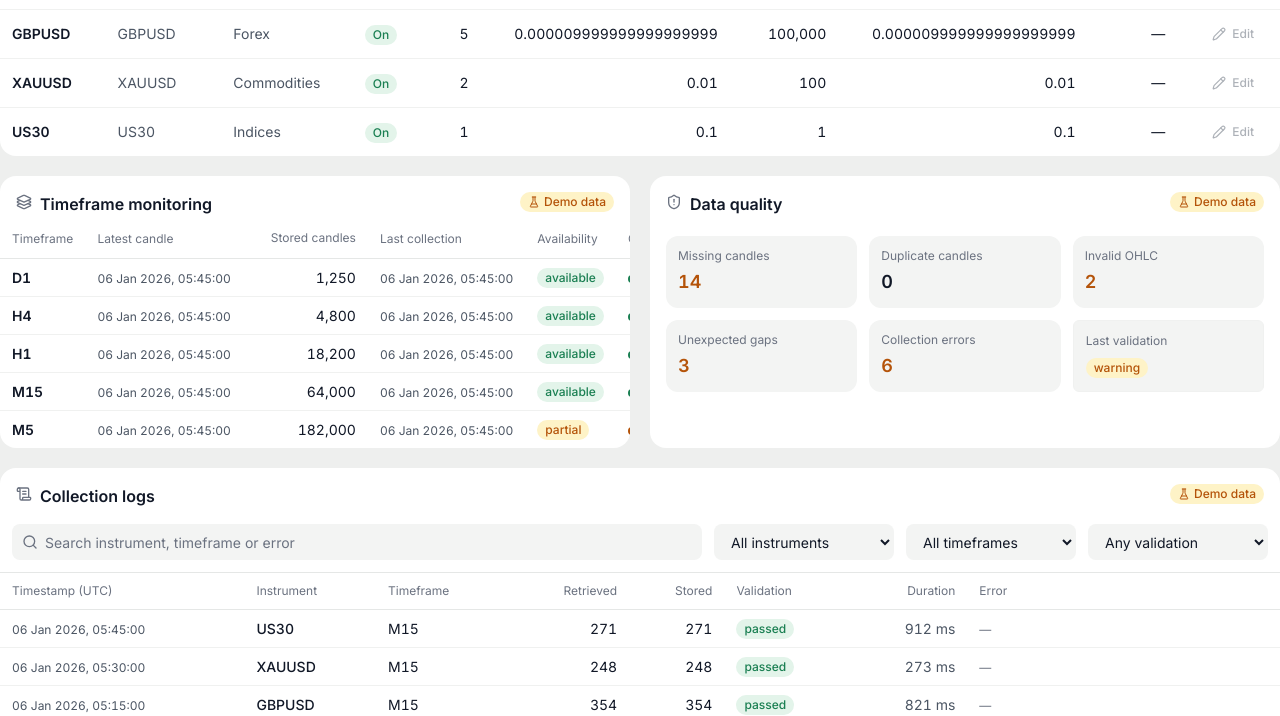
Scenario: Data Centre drill-down › filters the logs from a quality tile and opens a log in the drawer
(page scrolled)
What coordinates should you click on to do the following:
click the button "Collection errors 6"
I would click on:
 (965, 356)
Its box is [869,320,1061,392].
(page scrolled)
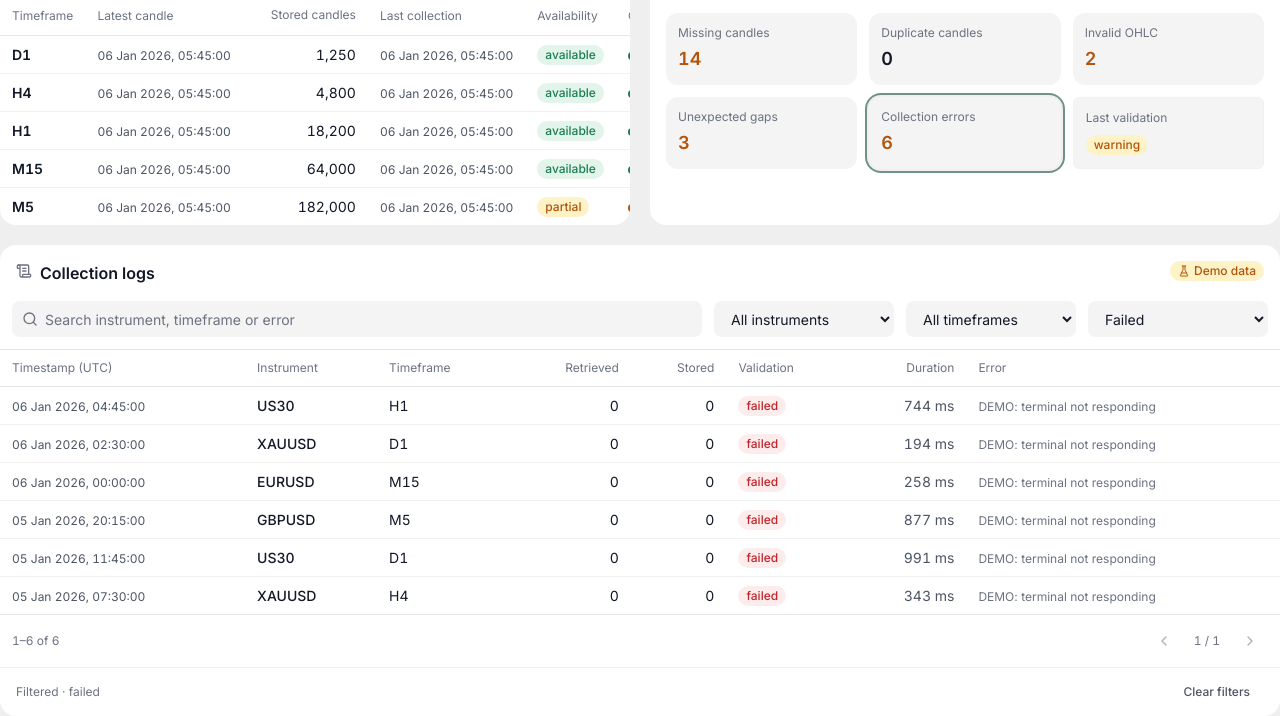
Expected: the text "failed" in the row of "06 Jan 2026, 04:45:00" is shown, [746,398,778,413]
Expected: the text "Filtered · failed" is shown, [16,684,100,700]
What coordinates should you click on to do the following:
click the row named "open log for"
I would click on:
 (640, 406)
Its box is [0,387,1279,424].
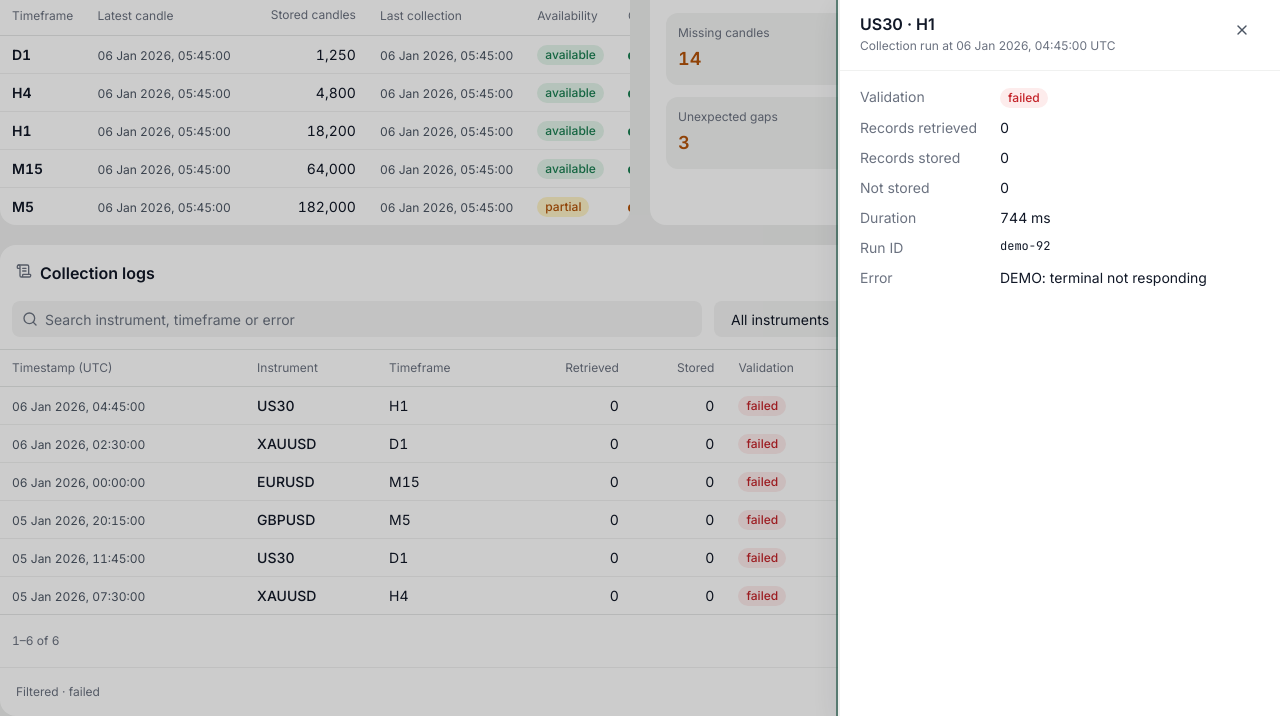
Expected: the text "Records retrieved" is shown, [860,119,977,136]
Expected: the text "DEMO: terminal not responding" is shown, [1000,269,1207,286]
What coordinates should you click on to do the following:
click the button named "close details"
I would click on:
 (1242, 30)
Its box is [1224,12,1260,48].
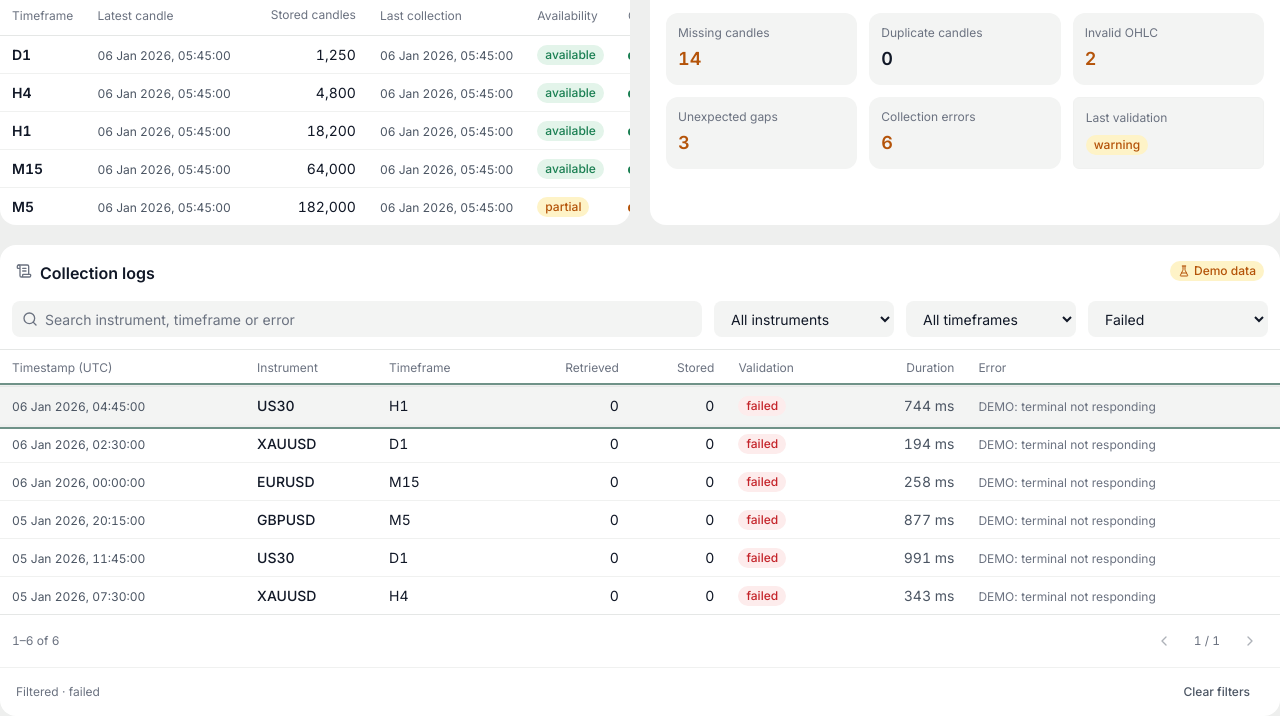
What coordinates should you click on to do the following:
click the button "Clear filters"
I would click on:
 (1217, 692)
Its box is [1169,676,1264,708].
(page scrolled)
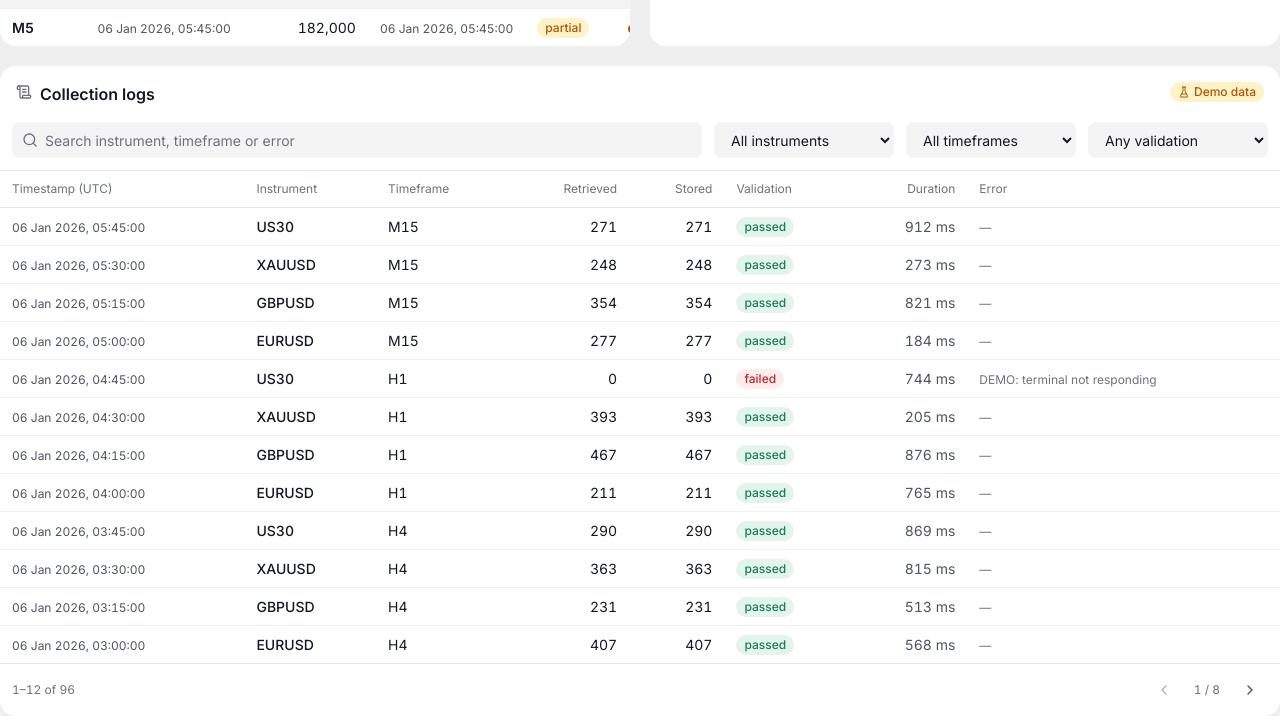
Expected: the text "1–12 of 96" is shown, [12,682,75,698]
